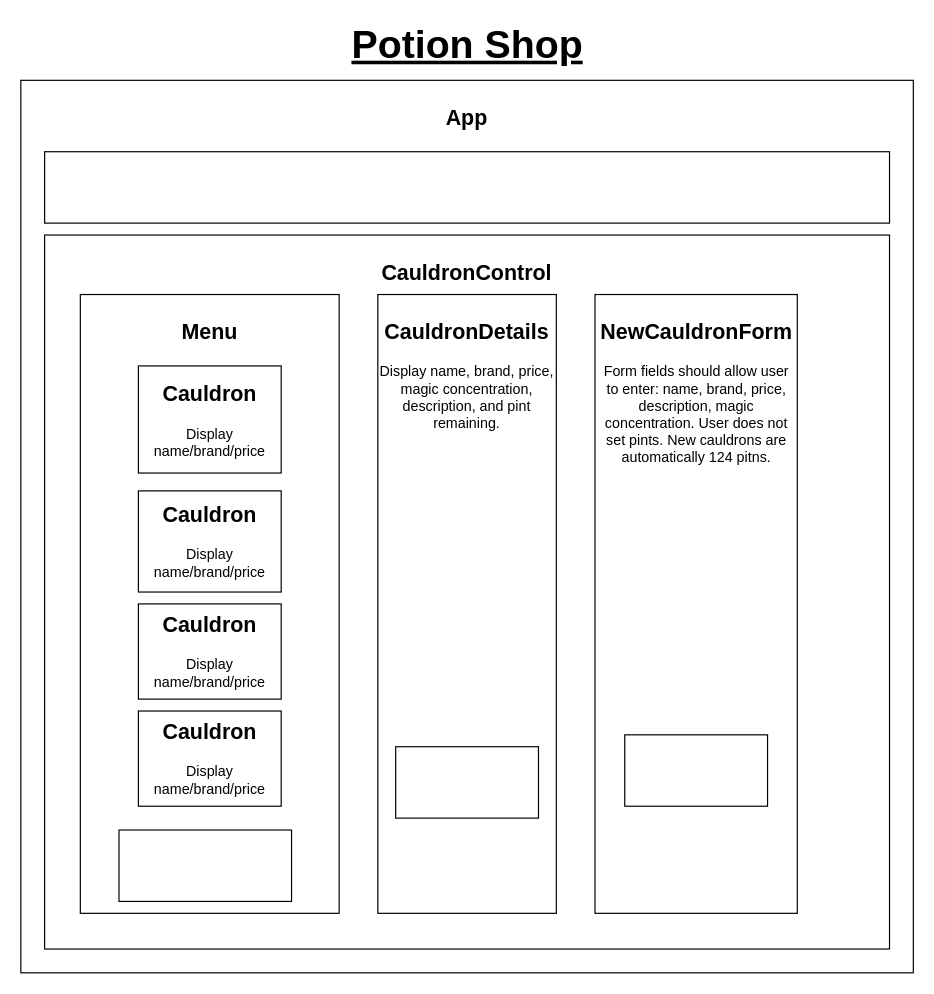
Some shapes in this 934 by 994 pixel diagram are drawn without their labels. The centre of each missing label's shape, as x and y in pixels:
"AddCauldronButton" goes at (x=205, y=865).
"BuyPintButton" goes at (x=466, y=782).
"Header" goes at (x=466, y=187).
"Submit" goes at (x=696, y=770).
